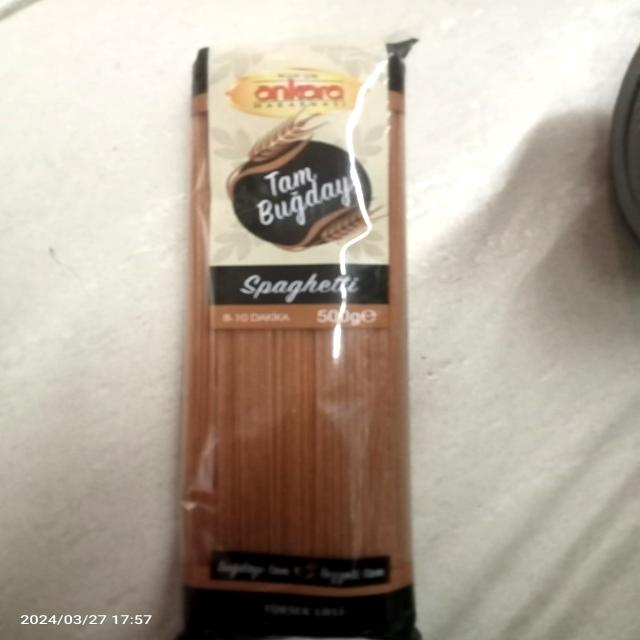spaghetti: (185, 44, 419, 640)
